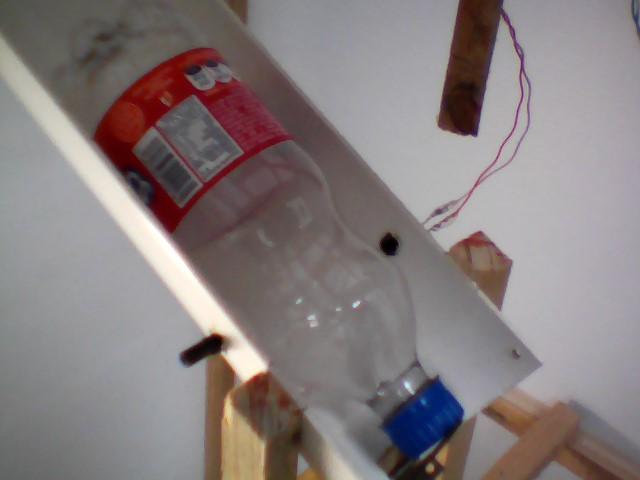plastico: (38, 1, 475, 462)
